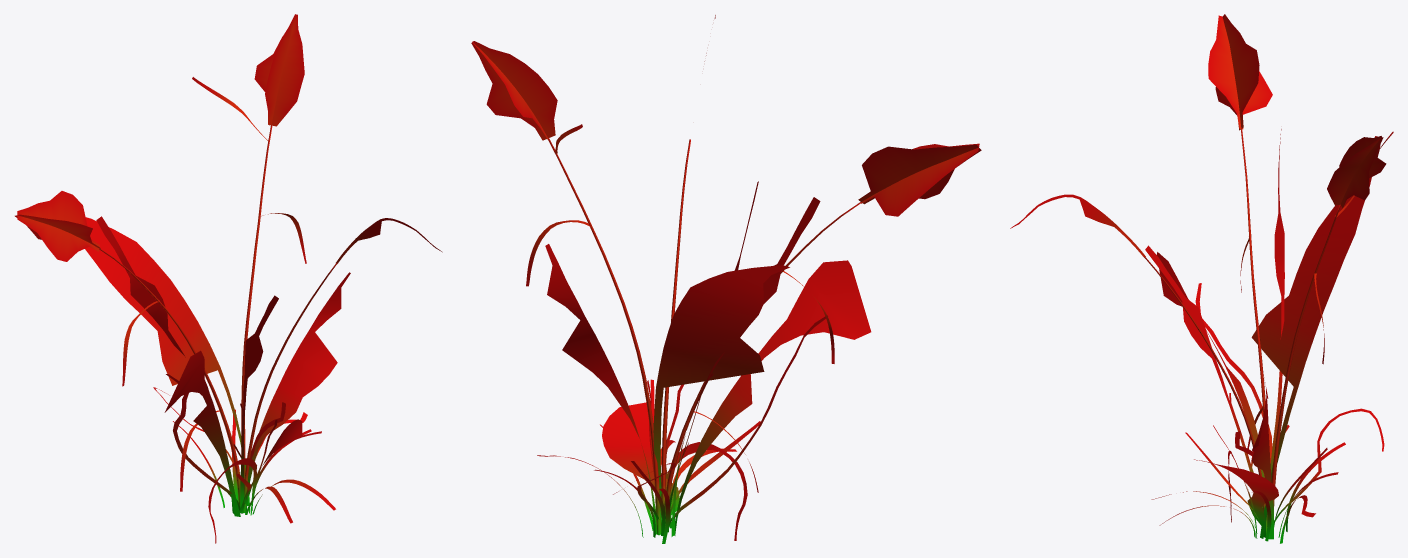
Rendered from skljc_Var4_LOD0.fbx.
3 views of the same model, side by side, from view 1: azimuth 30°, elevation 25°; view 2: azimuth 150°, elevation 25°; view 3: azimuth 270°, elevation 25° (orthographic). The views are drawn at different scales.
Parts seen in each view (by area): view 1: _c70a_Var4_LOD0; view 2: _c70a_Var4_LOD0; view 3: _c70a_Var4_LOD0.
Part boxes in pixels (x1,y1,x2,y2): _c70a_Var4_LOD0: (15, 14, 442, 543); _c70a_Var4_LOD0: (471, 15, 981, 543); _c70a_Var4_LOD0: (1010, 14, 1393, 543).
Size of the model in its own units: 67.42 by 79.49 by 59.45.
